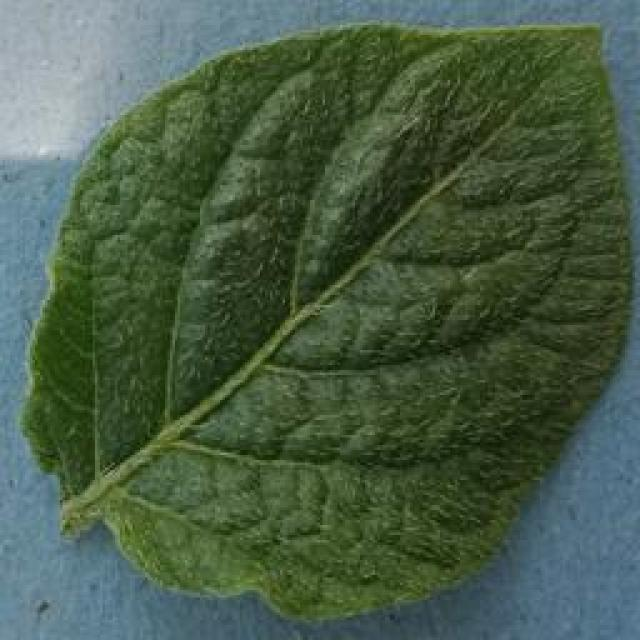Potato_Healthy: (3, 5, 634, 637)
